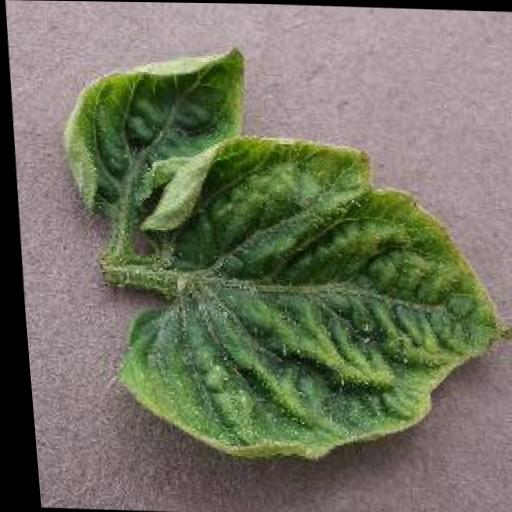Yellow Leaf Curl Virus: (100, 129, 512, 468), (48, 43, 252, 227)
